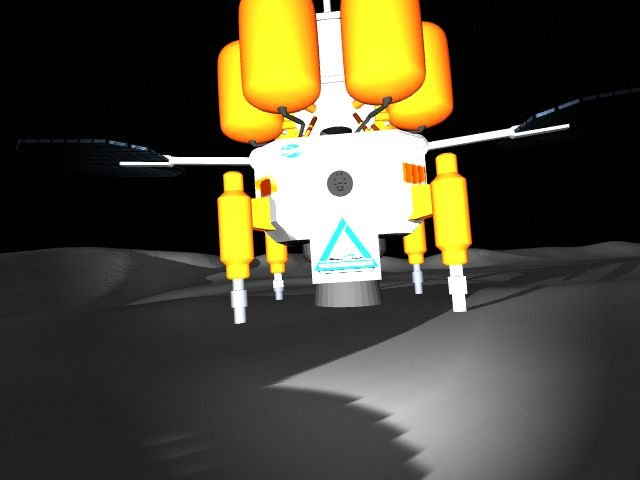basemarker: (314, 217, 379, 274)
